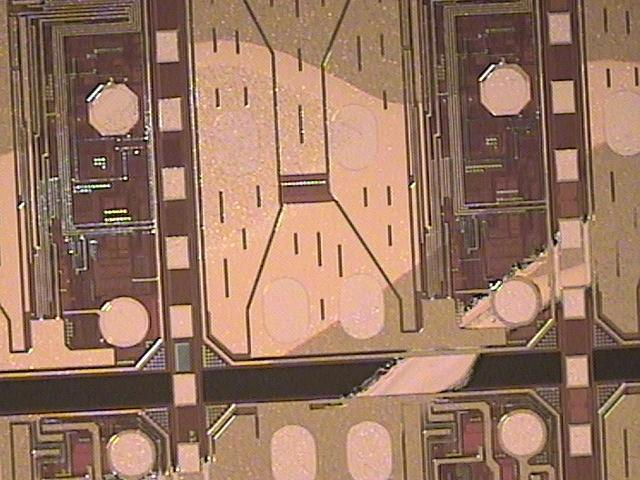COATING BAD: (1, 33, 640, 480)
